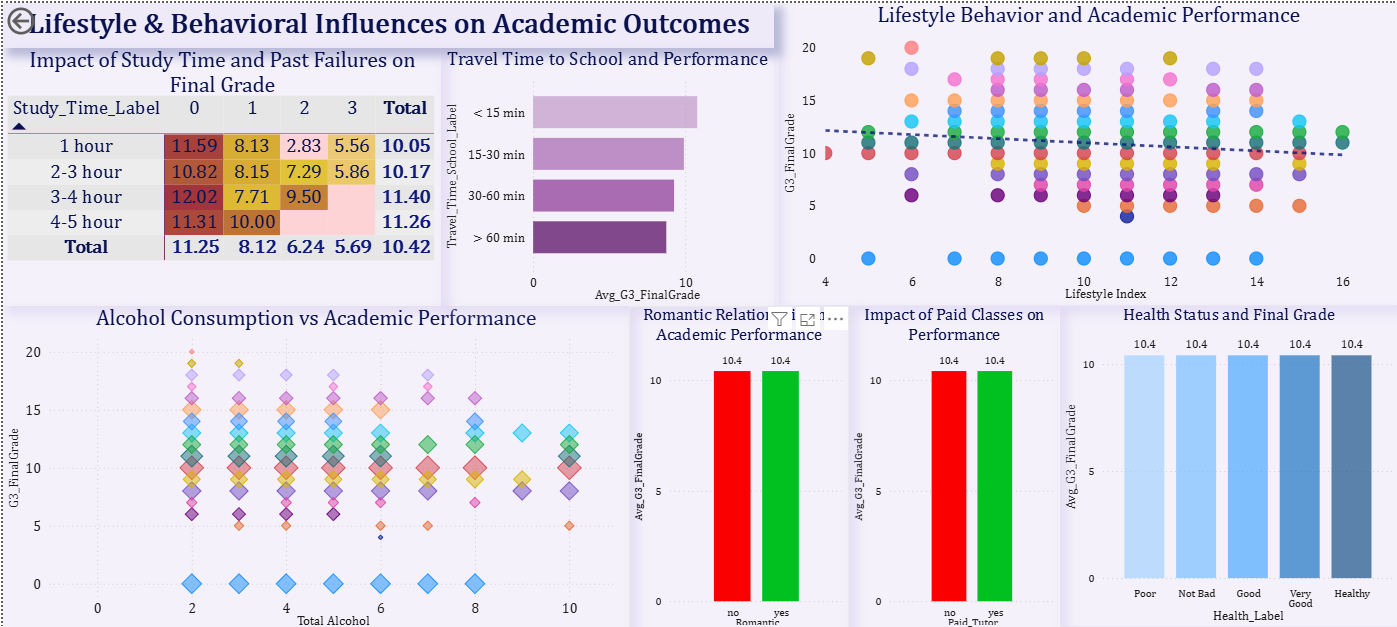

Layout of this report page (visuals, bound fields, positions):
{"tool":"powerbi","page":{"name":"Page 2","canvas":[1550,700],"ordinal":1},"visuals":[{"type":"textbox","box":[150,520,300,300],"z":0},{"type":"textbox","box":[0,0,857.1,50],"z":1000},{"type":"pivotTable","title":"Impact of Study Time and Past Failures on Final Grade","fields":{"Values":["Students.Avg_G3_FinalGrade"],"Columns":["Students.Failures"],"Rows":["Students.Study_Time_Label"]},"box":[0,50,487.1,287.1],"z":2000},{"type":"actionButton","box":[0,0,100,40],"z":3000},{"type":"scatterChart","title":"Lifestyle Behavior and Academic Performance","fields":{"Y":["Students.G3_FinalGrade"],"X":["Lifestyle.Lifestyle Index"]},"box":[857.1,0,692.9,337.1],"z":4000},{"type":"scatterChart","title":"Alcohol Consumption vs Academic Performance","fields":{"Y":["Students.G3_FinalGrade"],"X":["Lifestyle.Total Alcohol"],"Size":["CountNonNull(Students.StudentID)"]},"box":[0,337.1,695.7,362.9],"z":5000},{"type":"clusteredColumnChart","title":"Health Status and Final Grade","fields":{"Category":["Lifestyle.Health_Label"],"Y":["Students.Avg_G3_FinalGrade"]},"box":[1174.3,337.1,375.7,357.1],"z":6000},{"type":"clusteredBarChart","title":"Travel Time to School and Performance","fields":{"Category":["Students.Travel_Time_School_Label"],"Y":["Students.Avg_G3_FinalGrade"]},"box":[487.1,50,370,287.1],"z":7000},{"type":"clusteredColumnChart","title":"Impact of Paid Classes on Performance","fields":{"Category":["Support.Paid_Tutor"],"Y":["Students.Avg_G3_FinalGrade"]},"box":[940,337.1,234.3,362.9],"z":8000},{"type":"clusteredColumnChart","title":"Romantic Relationship and Academic Performance","fields":{"Y":["Students.Avg_G3_FinalGrade"],"Category":["Lifestyle.Romantic"]},"box":[695.7,337.1,244.3,362.9],"z":9000}]}

Visuals, with their boxes in screenshot pixels (x1, y1, x2, y2), scaled from the page's 1550x700 canvas onto the 1397x627 screenshot:
textbox: left=135, top=466, right=406, bottom=626
textbox: left=0, top=0, right=772, bottom=45
"Impact of Study Time and Past Failures on Final Grade" pivotTable: left=0, top=45, right=439, bottom=302
actionButton: left=0, top=0, right=90, bottom=36
"Lifestyle Behavior and Academic Performance" scatterChart: left=772, top=0, right=1396, bottom=302
"Alcohol Consumption vs Academic Performance" scatterChart: left=0, top=302, right=627, bottom=626
"Health Status and Final Grade" clusteredColumnChart: left=1058, top=302, right=1396, bottom=622
"Travel Time to School and Performance" clusteredBarChart: left=439, top=45, right=772, bottom=302
"Impact of Paid Classes on Performance" clusteredColumnChart: left=847, top=302, right=1058, bottom=626
"Romantic Relationship and Academic Performance" clusteredColumnChart: left=627, top=302, right=847, bottom=626
